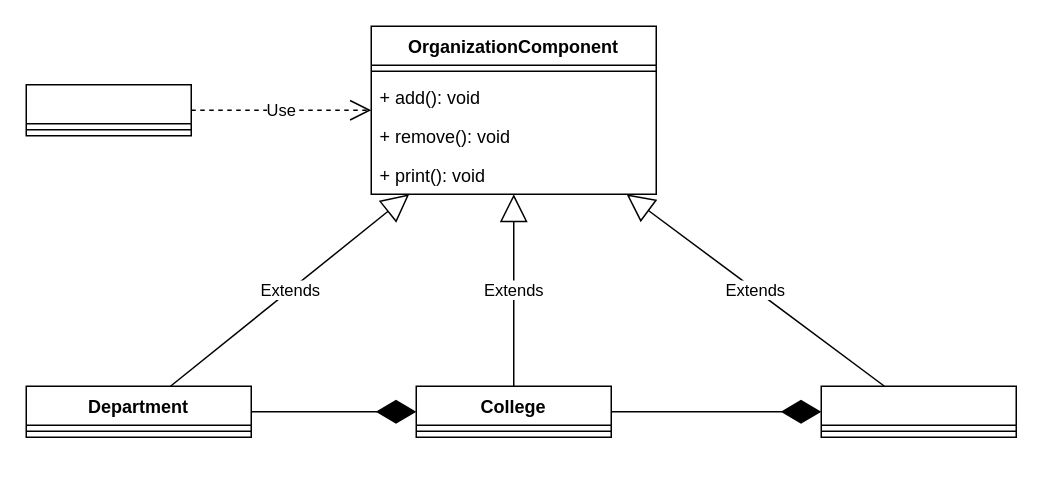
Image size: 1043x477. Some labels were removed from this diagram. Each missing label, with the centre of its shape:
"Client" belongs at [108,109].
"University" belongs at [918,411].
